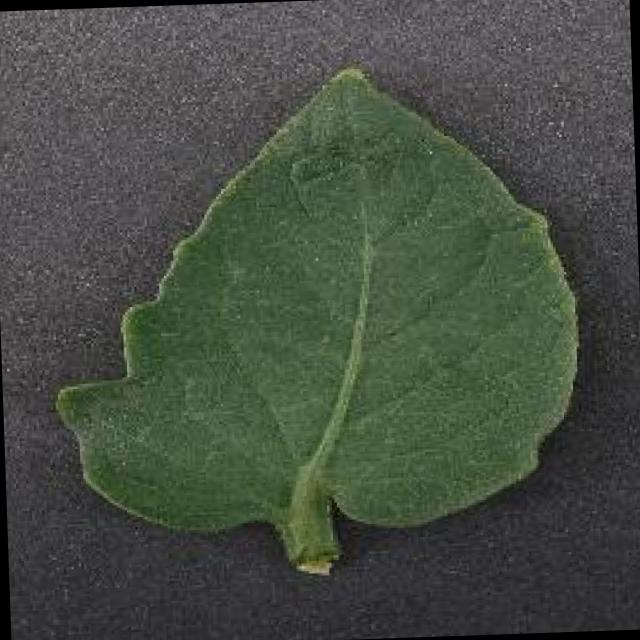Tomato_Healthy: (31, 46, 614, 542)
